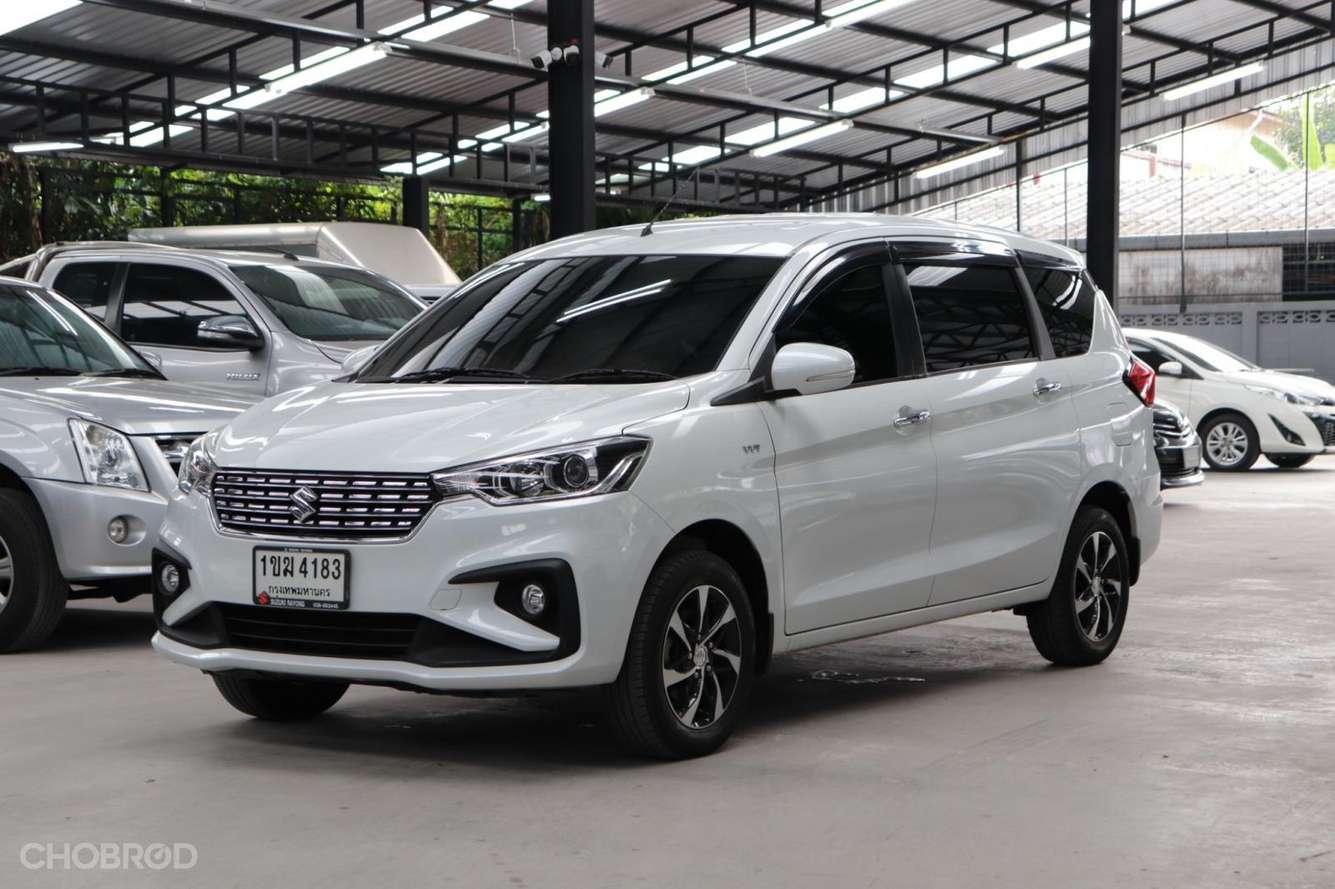license-plate: (255, 545, 352, 615)
